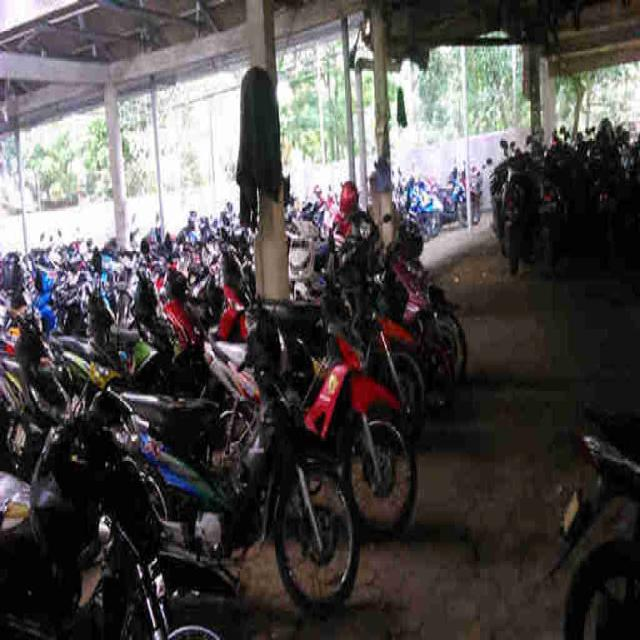Motorbikes: (109, 367, 358, 612), (238, 333, 421, 550)
